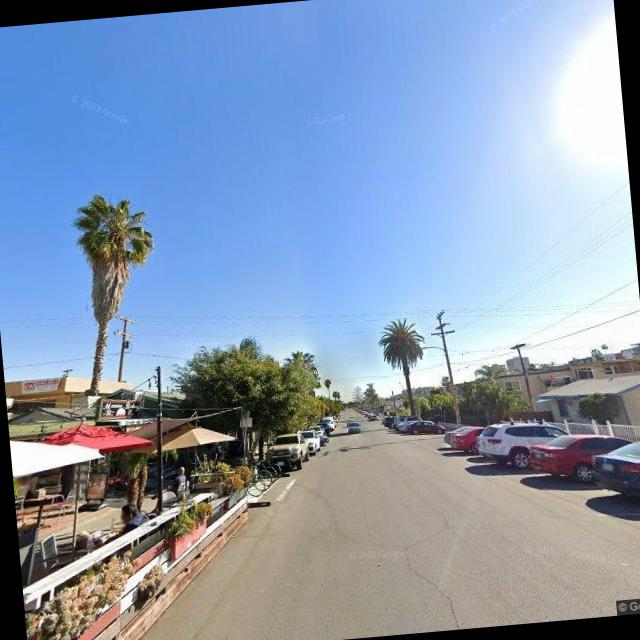crack: (398, 528, 466, 632)
